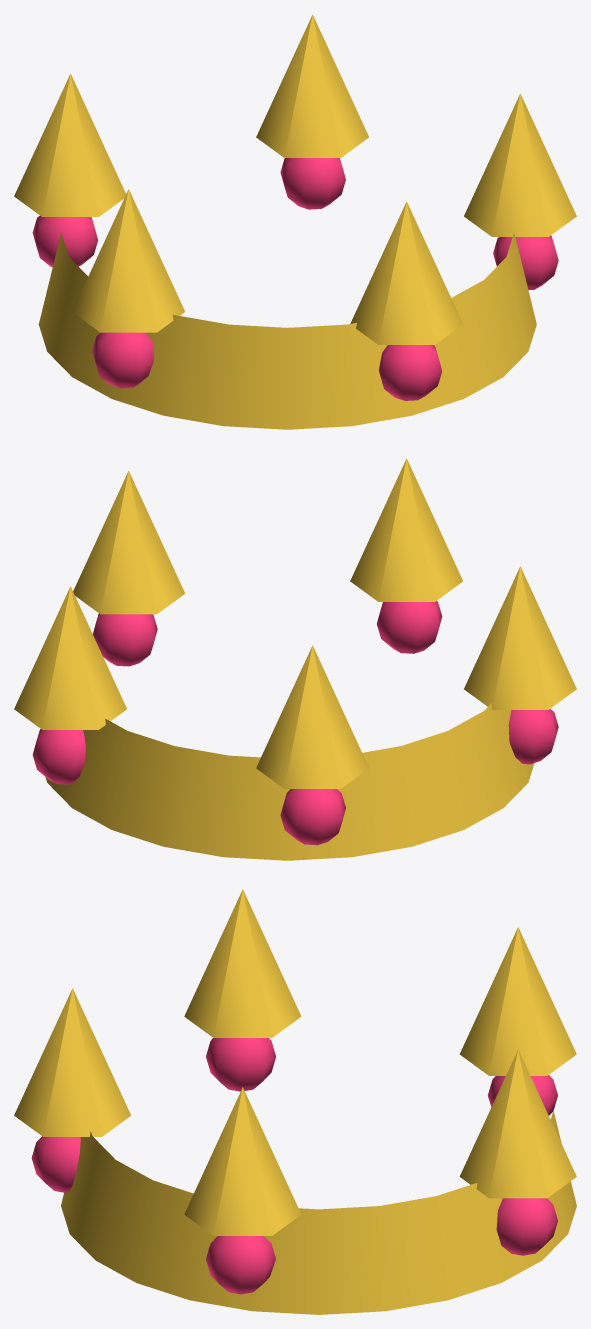
The model's file is crown.glb.
3 views of the same model, one above another, from view 1: azimuth 30°, elevation 25°; view 2: azimuth 150°, elevation 25°; view 3: azimuth 270°, elevation 25° (orthographic). The views are drawn at different scales.
Visible parts, largest first — view 1: part0, part1; view 2: part0, part1; view 3: part0, part1.
Part boxes in pixels (box(x1,y1,x2,y2)): part0: box(14, 14, 576, 429); part1: box(32, 158, 558, 400); part0: box(14, 458, 576, 860); part1: box(32, 601, 558, 845); part0: box(14, 889, 576, 1314); part1: box(31, 1038, 557, 1294).
Bounding box in the file's own units: 0.486 × 0.205 × 0.48.
